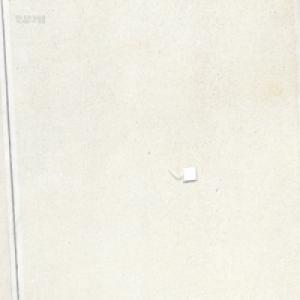LuggageTag: (167, 165, 197, 181)
